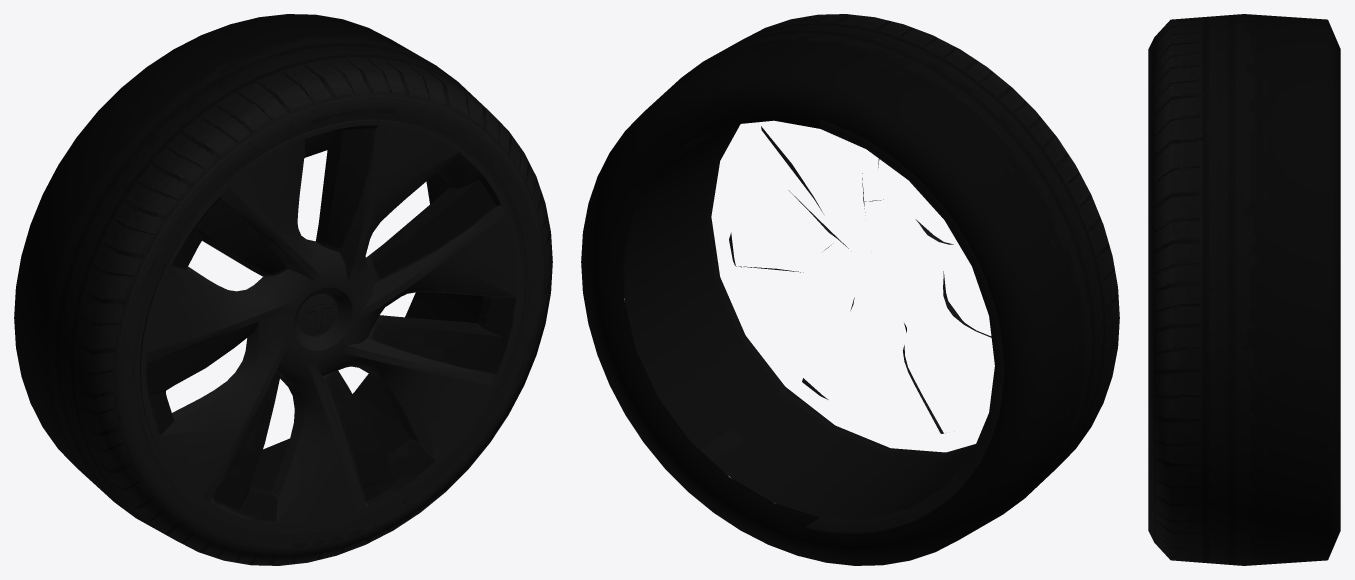
File: Wheel_Apollo_19_Metallic_Shadow.glb
The picture shows the model from 3 angles, left to right: view 1: azimuth 30°, elevation 25°; view 2: azimuth 150°, elevation 25°; view 3: azimuth 270°, elevation 25°; orthographic projection.
Parts seen in each view (by area): view 1: Wheel_Apollo_19_Metallic_Shadow; view 2: Wheel_Apollo_19_Metallic_Shadow; view 3: Wheel_Apollo_19_Metallic_Shadow.
Part boxes in pixels (bbox=[...]): Wheel_Apollo_19_Metallic_Shadow: bbox=[14, 14, 552, 565]; Wheel_Apollo_19_Metallic_Shadow: bbox=[581, 14, 1119, 565]; Wheel_Apollo_19_Metallic_Shadow: bbox=[1148, 14, 1340, 565].
Bounding box in the file's own units: 0.6765 × 0.6752 × 0.236.
Materials: 2 (2 with a texture image).
